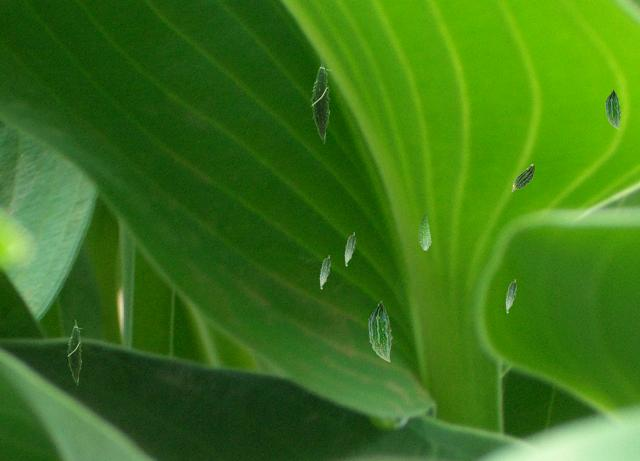ampalaya: (310, 57, 332, 143), (367, 300, 392, 362), (66, 319, 84, 385), (604, 88, 621, 130), (511, 163, 535, 192), (417, 212, 432, 252), (344, 232, 355, 266), (319, 255, 330, 289), (505, 279, 516, 313)
